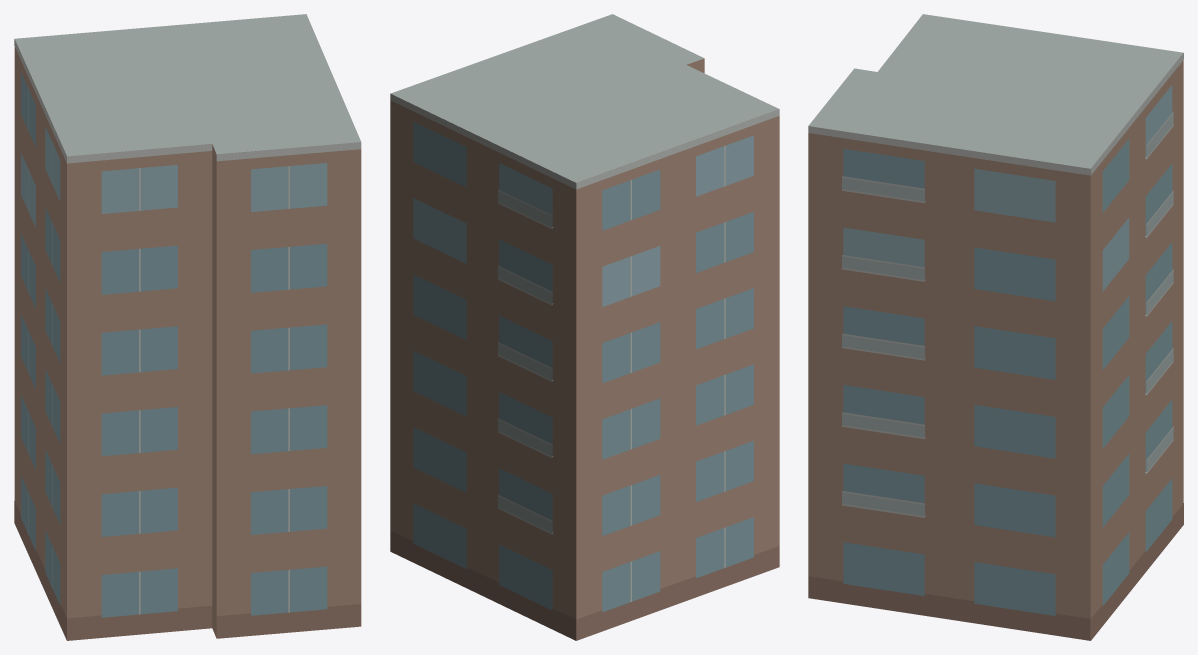
The model's file is survey-upis-32689078.glb.
The picture shows the model from 3 angles, left to right: view 1: azimuth 30°, elevation 25°; view 2: azimuth 150°, elevation 25°; view 3: azimuth 270°, elevation 25°; orthographic projection. The views are drawn at different scales.
Visible parts, largest first — view 1: survey-upis-32689078.tmp; view 2: survey-upis-32689078.tmp; view 3: survey-upis-32689078.tmp.
Part boxes in pixels (x1,y1,x2,y2): survey-upis-32689078.tmp: [14, 14, 361, 640]; survey-upis-32689078.tmp: [390, 14, 779, 640]; survey-upis-32689078.tmp: [808, 14, 1183, 640].
Bounding box in the file's own units: 11.83 × 16.8 × 12.12.
